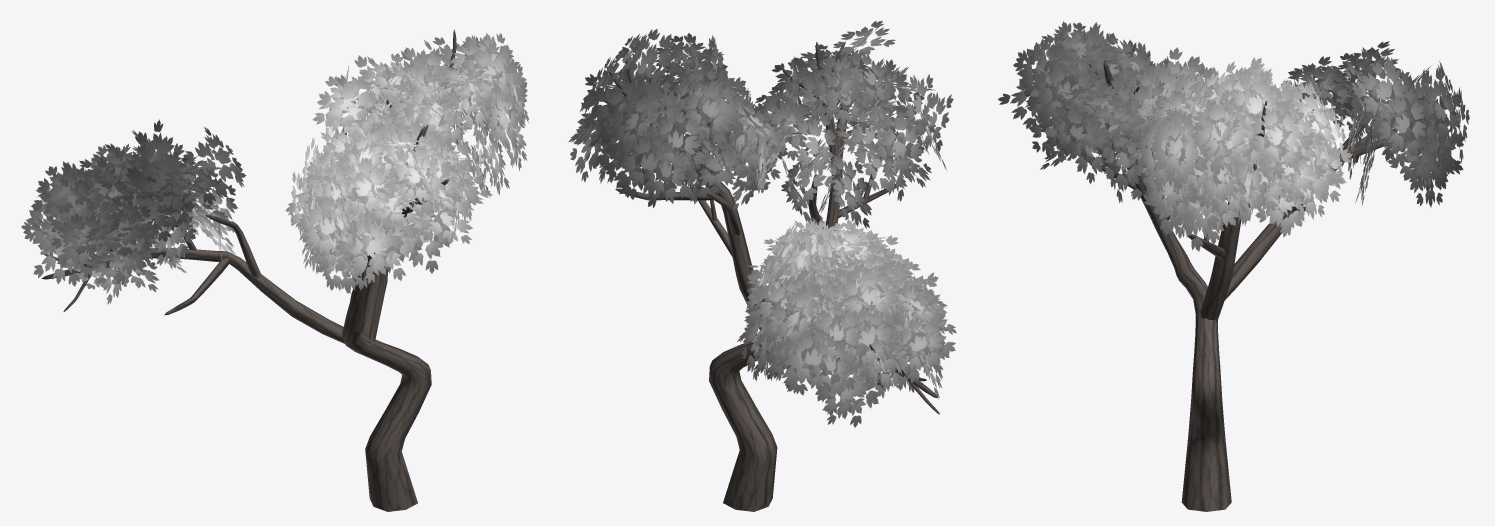
Rendered from tr_maple3.glb.
The picture shows the model from 3 angles, left to right: view 1: azimuth 30°, elevation 25°; view 2: azimuth 150°, elevation 25°; view 3: azimuth 270°, elevation 25°; orthographic projection. The views are drawn at different scales.
Visible parts, largest first — view 1: tree; view 2: tree; view 3: tree.
Part boxes in pixels (x1,y1,x2,y2): tree: [21, 29, 529, 511]; tree: [568, 20, 956, 511]; tree: [998, 21, 1469, 511].
Bounding box in the file's own units: 6.79 × 6.8 × 6.32.
Materials: 2 (2 with a texture image).
